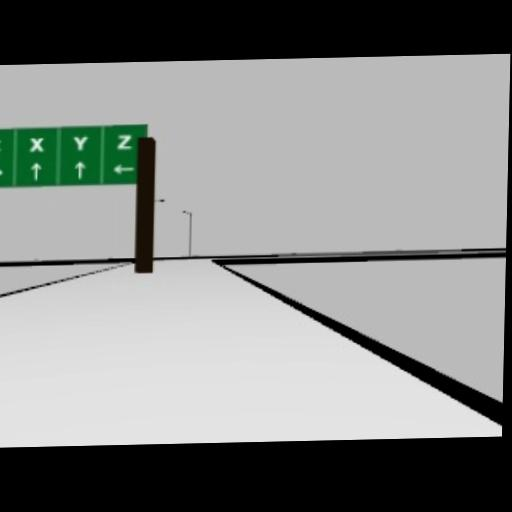C: (0, 136, 1, 151)
Left: (112, 162, 135, 174)
Right: (0, 166, 2, 176)
Straight: (73, 160, 85, 178), (29, 161, 41, 179)
X: (28, 135, 43, 151)
Y: (72, 134, 87, 150)
Z: (115, 131, 133, 149)
